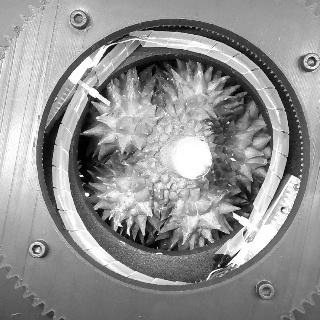base: (159, 130, 210, 186)
end: (170, 136, 213, 180)
